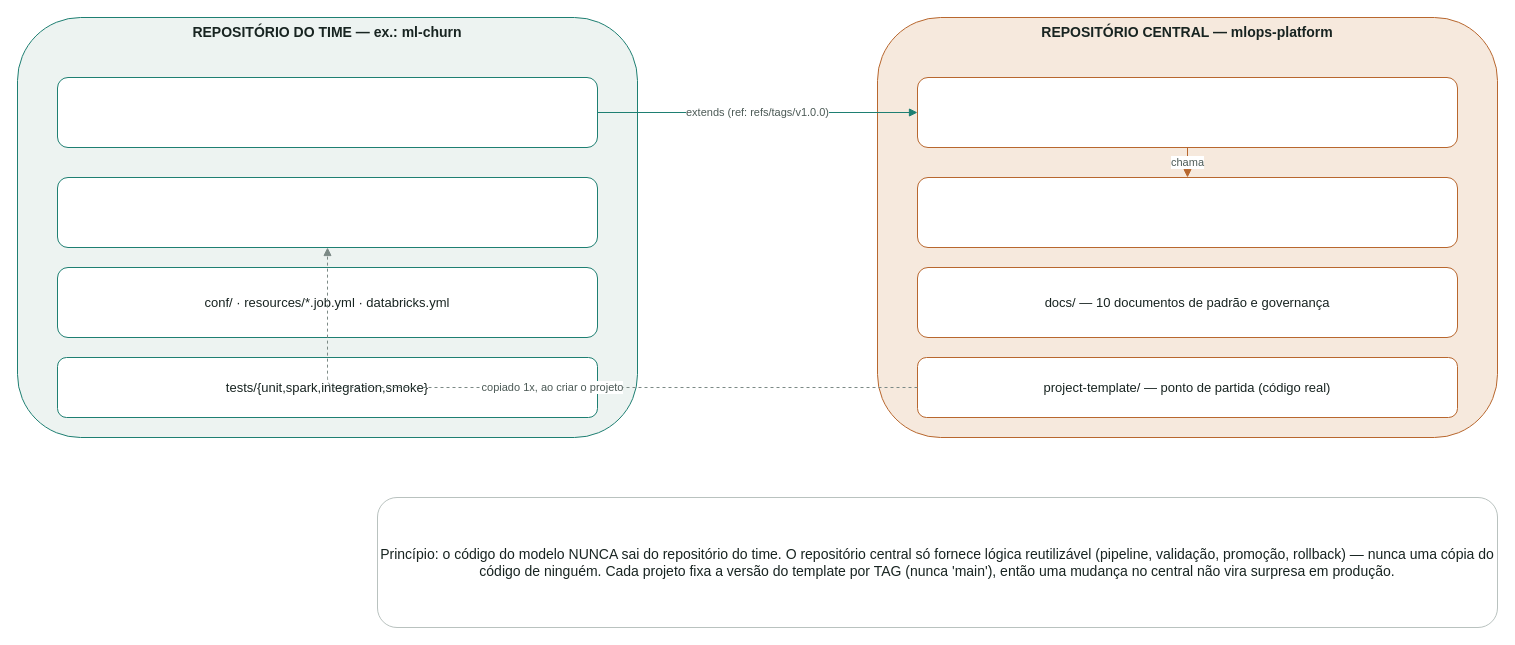
Image size: 1515x645. Some labels were removed from this diagram. Here are the shapes that lost their labels. From the top down, the centre of each, then its label:
(327,112): azure-pipelines.yml (~40 linhas, só parâmetros)
(1187,112): pipelines/templates/ml-project-pipeline.yml (22 stages)
(327,212): src/churn_model/ (features, treino, avaliação)
(1187,212): scripts/*.py — validação, comparação, promoção, rollback (sem PySpark)
